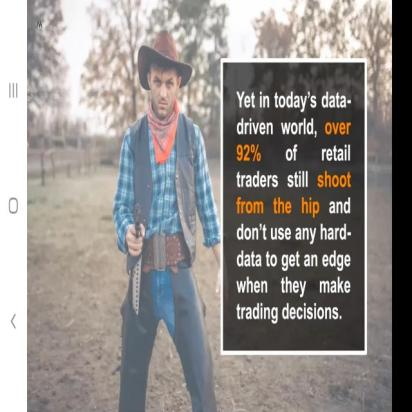Gun: (132, 200, 144, 260)
